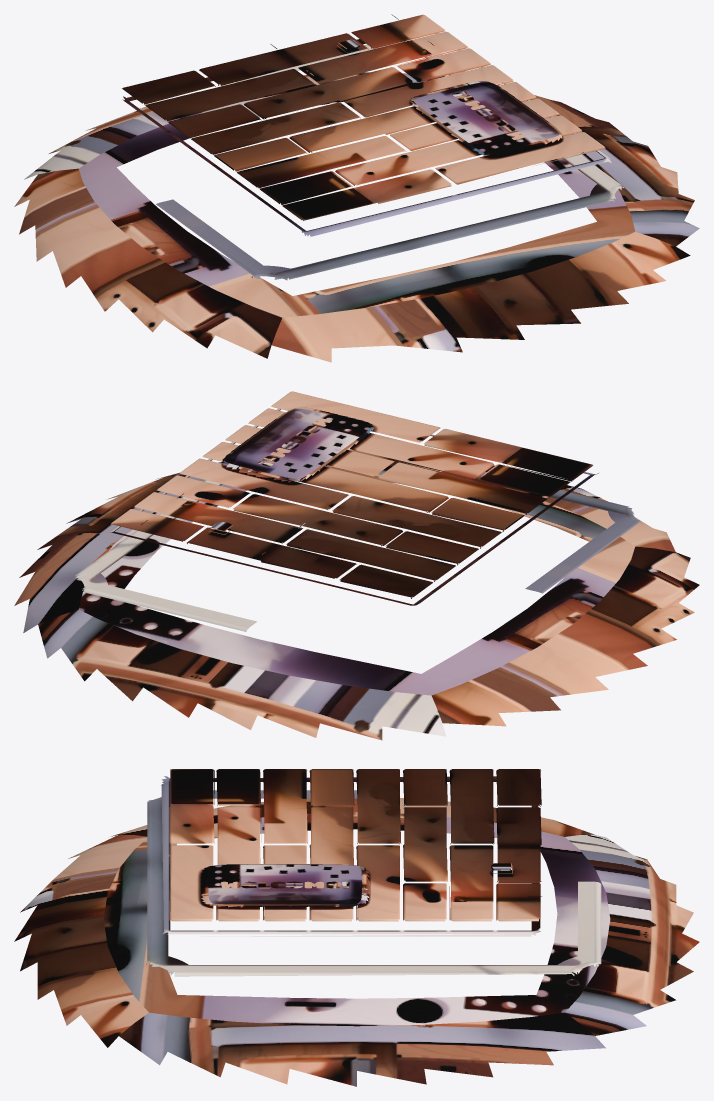
The model's file is floor.glb.
The picture shows the model from 3 angles, top to bottom: view 1: azimuth 30°, elevation 25°; view 2: azimuth 150°, elevation 25°; view 3: azimuth 270°, elevation 25°; orthographic projection. The views are drawn at different scales.
Visible parts, largest first — view 1: floor; view 2: floor; view 3: floor.
Part boxes in pixels (x1=…): floor: x1=14, y1=14, x2=699, y2=362; floor: x1=14, y1=391, x2=699, y2=740; floor: x1=14, y1=769, x2=699, y2=1086.
Bounding box in the file's own units: 11.25 × 1.96 × 11.25.
Materials: 2 (2 with a texture image).
